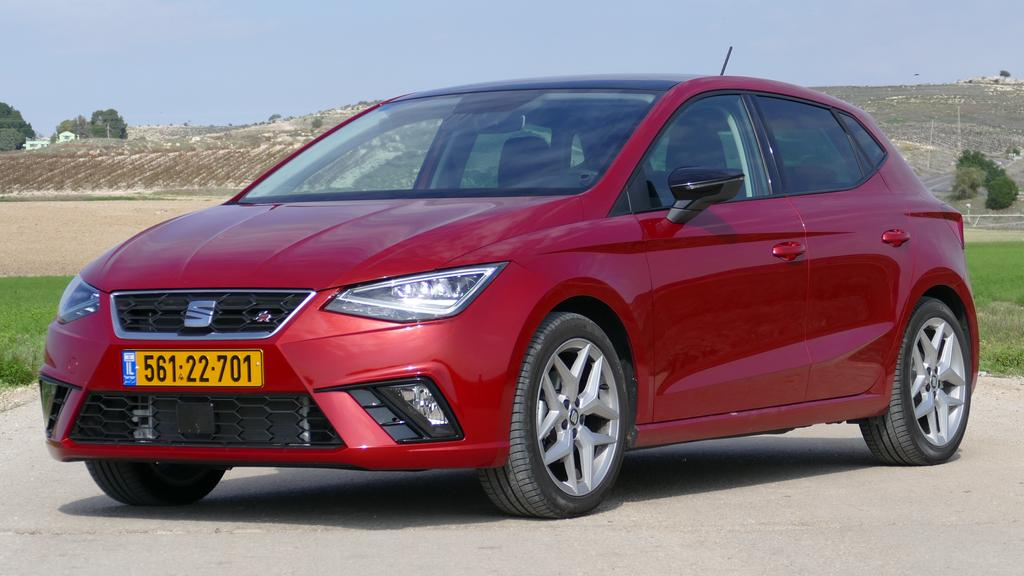licence: (119, 347, 266, 389)
